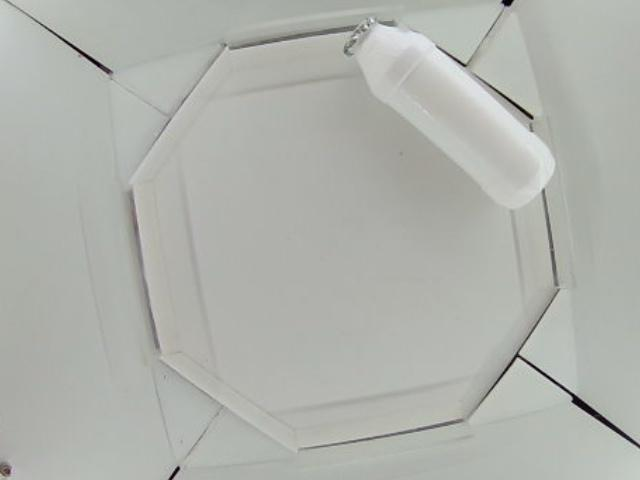Bottle: (340, 17, 555, 216)
